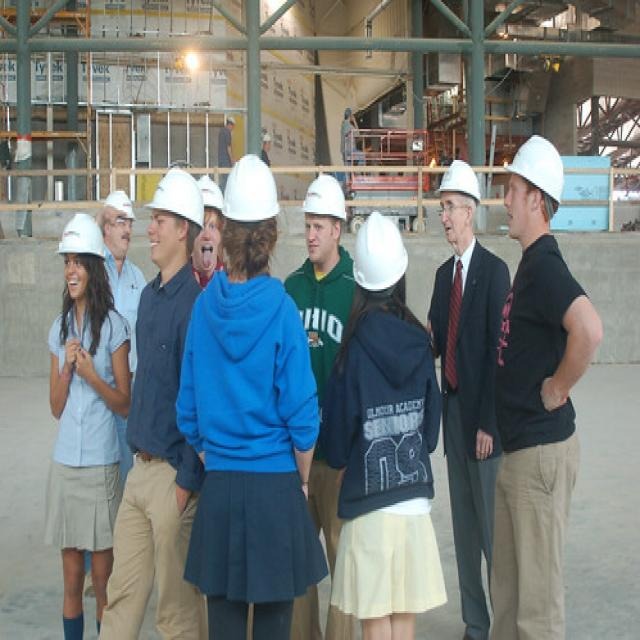Safety-Helmet: (499, 129, 568, 206), (350, 206, 409, 295), (220, 152, 281, 224), (146, 164, 205, 229), (299, 172, 349, 224), (55, 210, 107, 260), (435, 154, 483, 204), (101, 185, 136, 220)
